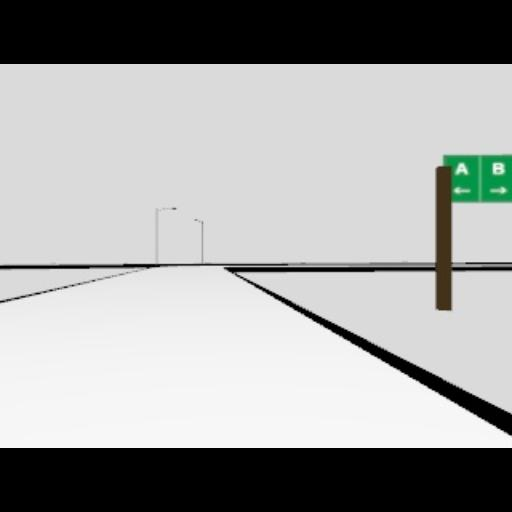A: (454, 162, 468, 174)
B: (492, 160, 504, 174)
Left: (453, 186, 471, 194)
Right: (488, 186, 508, 194)
